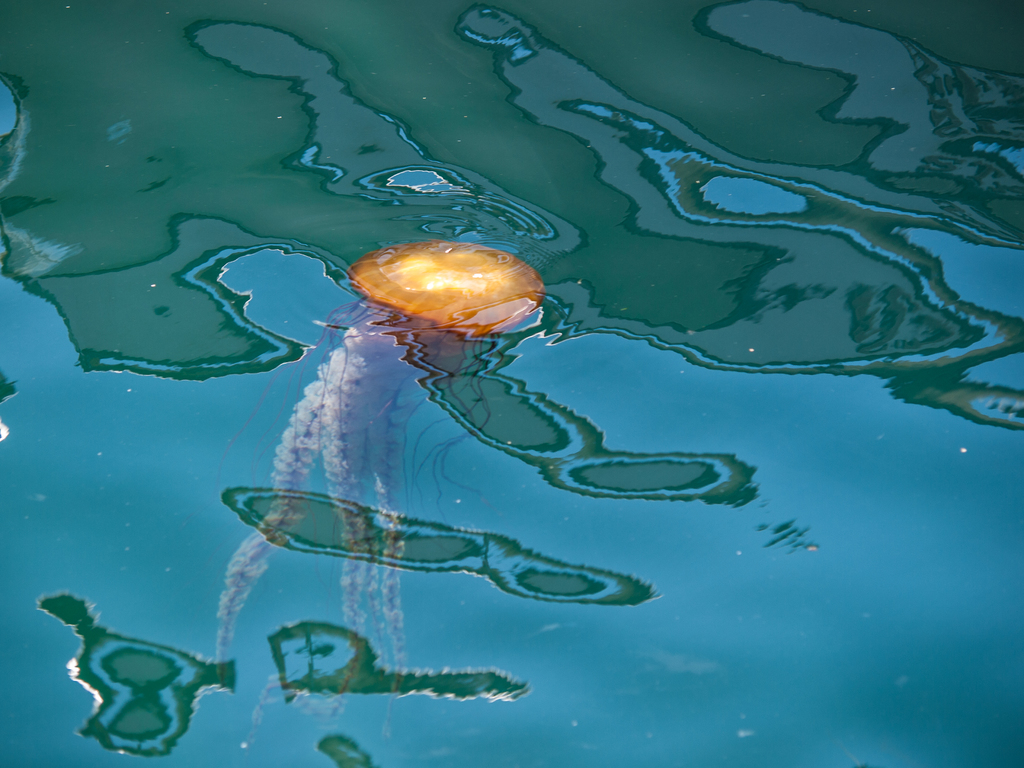Jellyfish: (344, 240, 544, 334)
